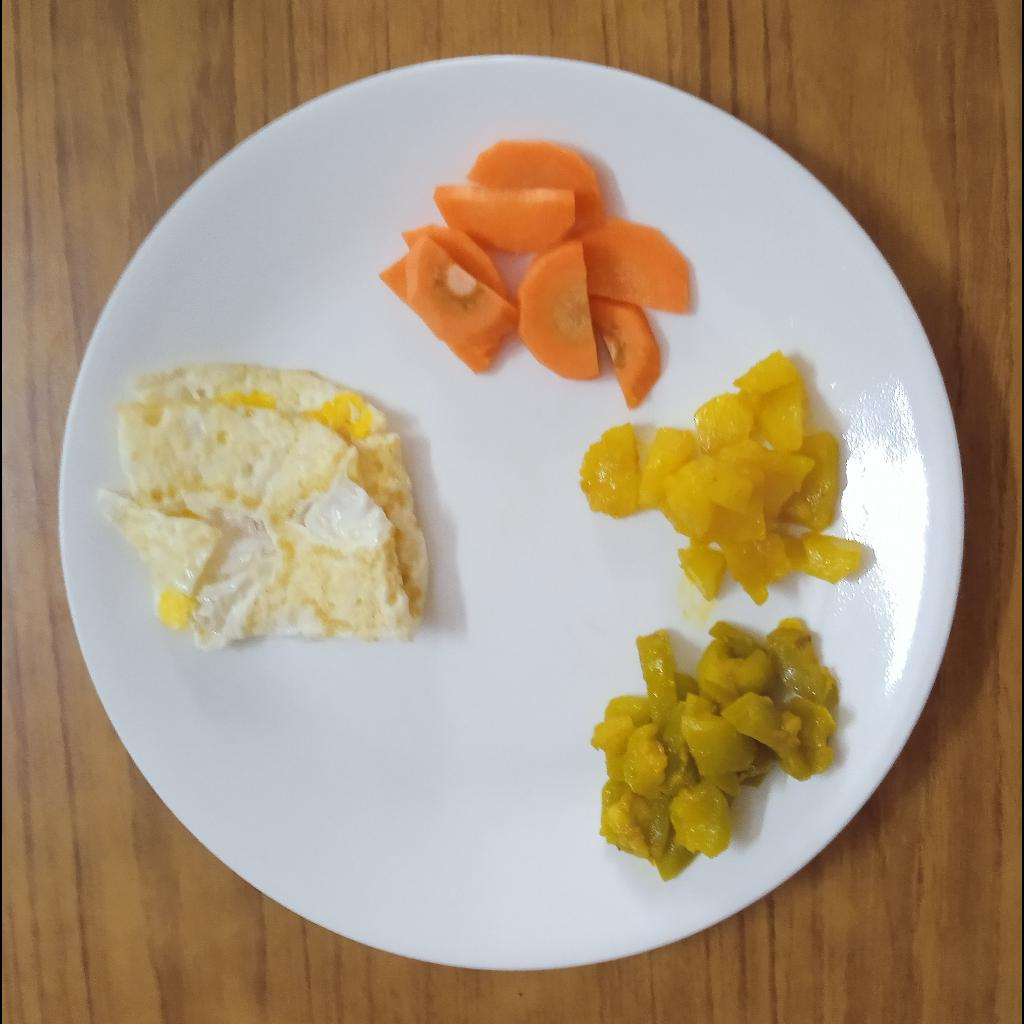carrot: (379, 138, 692, 407)
egg-poached: (98, 358, 432, 654)
kumra-vaji: (578, 349, 864, 608)
lau: (592, 616, 841, 884)
